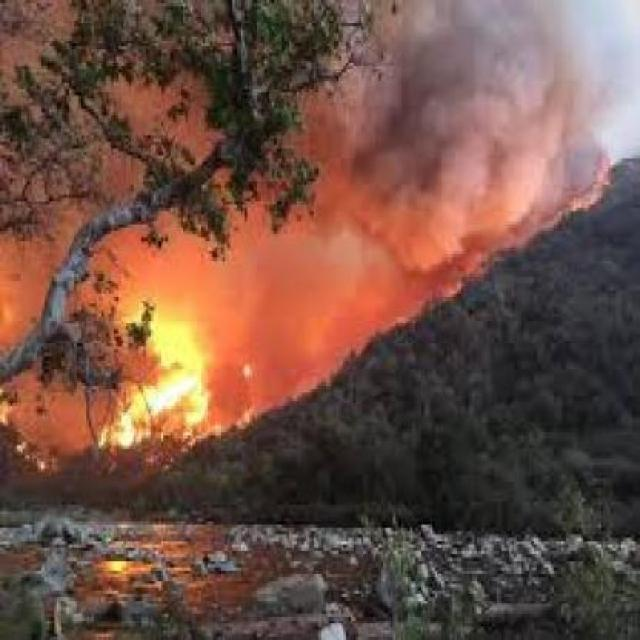Fire: (70, 256, 274, 486)
Smoke: (223, 0, 640, 364)
